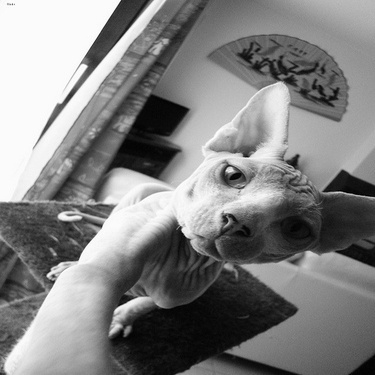cat: (7, 77, 372, 368)
